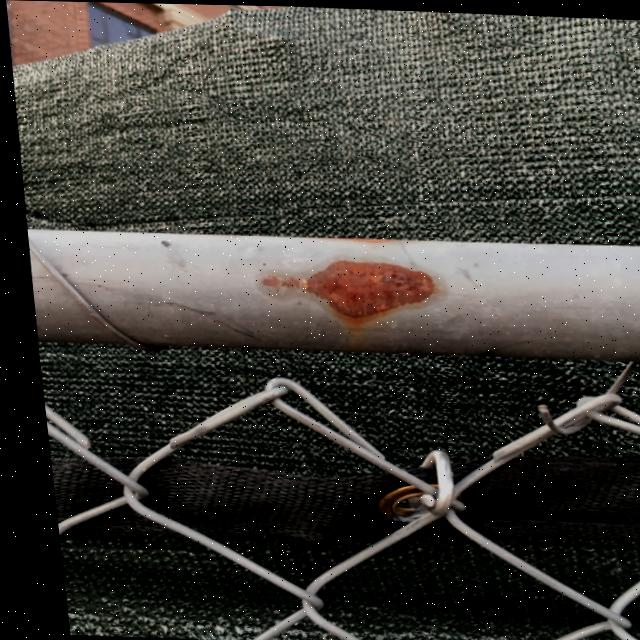corrosion: (252, 254, 430, 320), (298, 259, 428, 316)
